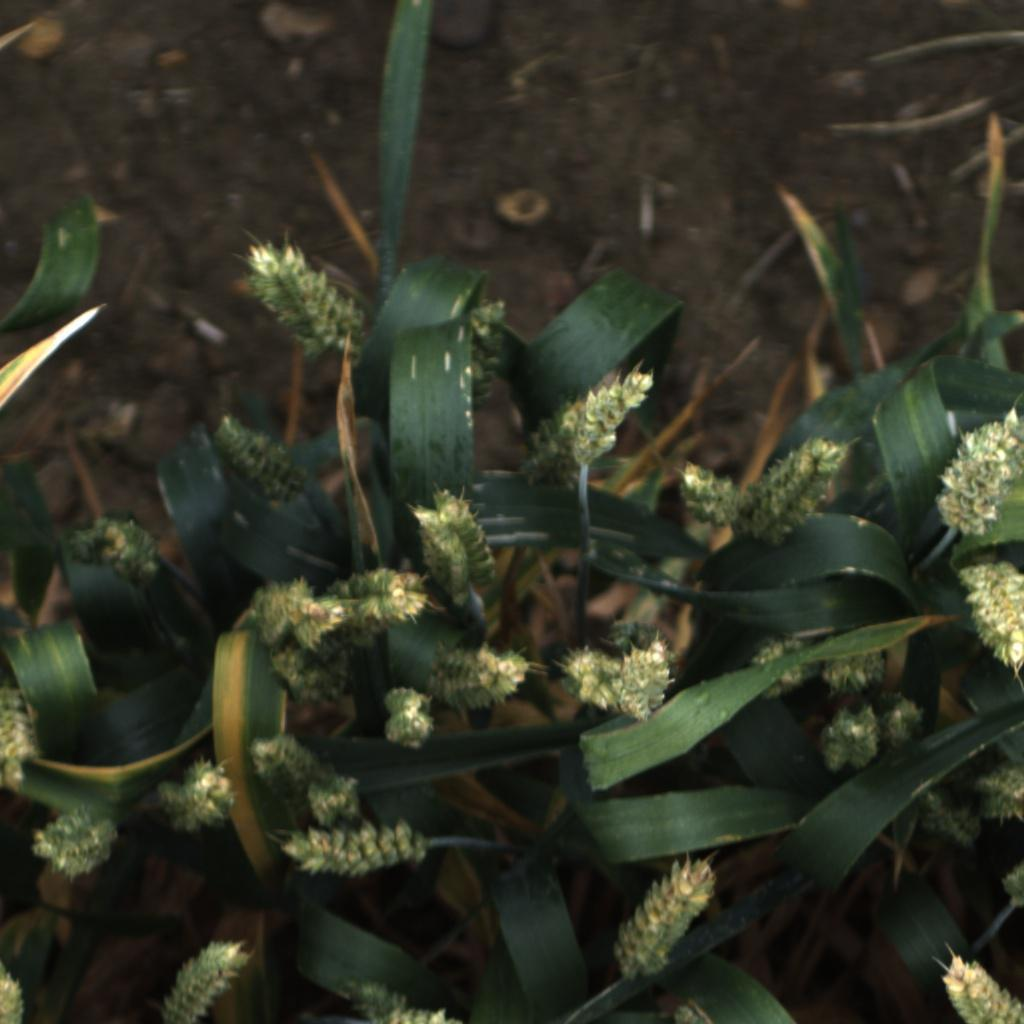0-0: (238, 241, 366, 370), (925, 404, 1024, 534), (737, 431, 848, 546), (611, 856, 715, 977), (314, 566, 427, 667), (407, 486, 498, 598), (275, 816, 426, 881), (204, 409, 302, 504), (951, 560, 1024, 679), (573, 367, 660, 463), (515, 393, 597, 494), (25, 799, 120, 886), (155, 936, 248, 1024), (70, 508, 164, 591), (149, 756, 240, 838), (428, 642, 530, 714), (253, 575, 348, 651), (607, 638, 678, 724), (273, 643, 355, 711), (808, 703, 882, 773), (747, 631, 819, 702), (673, 453, 739, 529), (913, 781, 985, 849), (242, 727, 307, 802), (464, 300, 505, 414), (601, 614, 685, 669), (558, 642, 621, 712), (0, 676, 38, 791), (299, 769, 365, 833), (379, 681, 441, 749), (823, 642, 890, 703), (876, 690, 934, 752), (344, 977, 405, 1024), (980, 763, 1024, 827), (0, 959, 29, 1022), (378, 1006, 467, 1024), (997, 855, 1024, 911), (672, 1003, 711, 1024)
